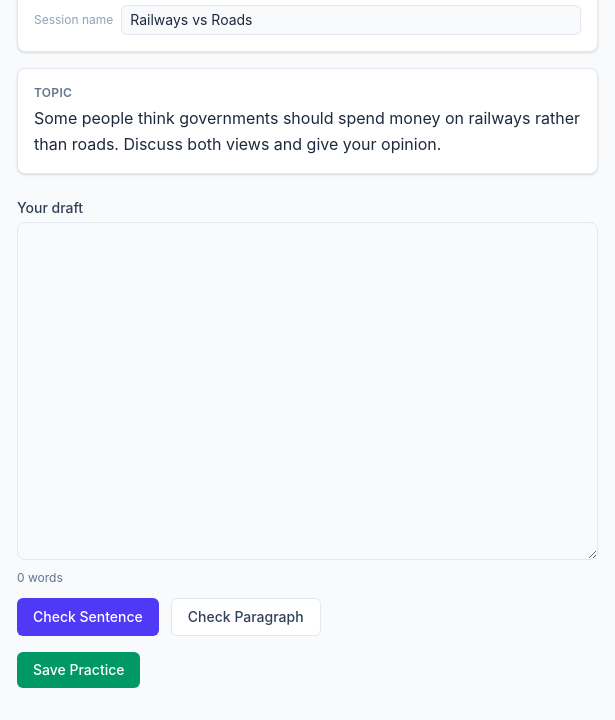
Test case: shows error when saving empty draft
(page scrolled)
What coordinates should you click on to do the following:
click the button "Save Practice"
I would click on:
 (79, 670)
Its box is top-left (17, 652), bottom-right (140, 688).
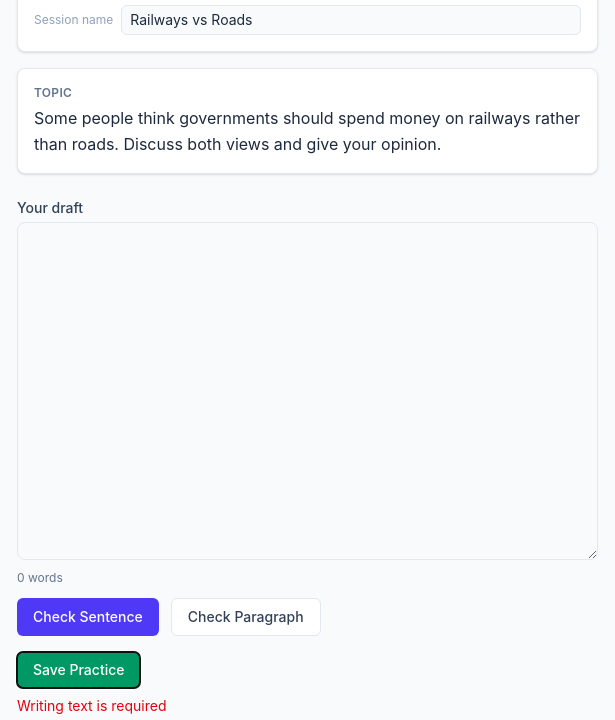
Result: the text "Writing text is required" is shown at top-left (17, 697), bottom-right (166, 714)
